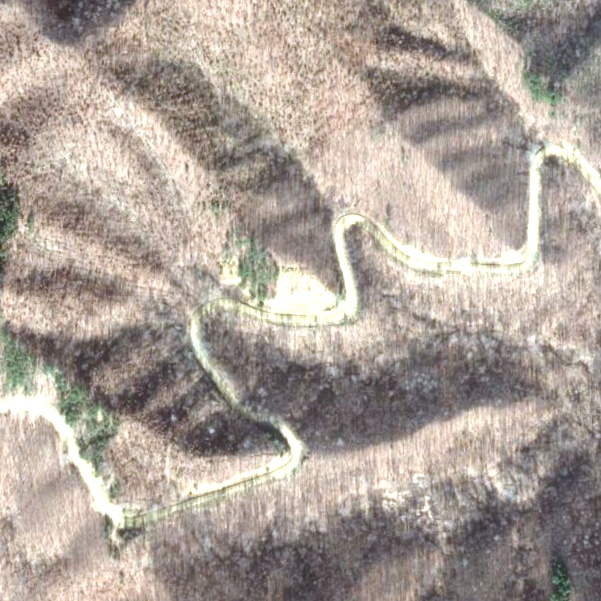slope: (260, 257, 340, 315), (0, 365, 63, 426)
